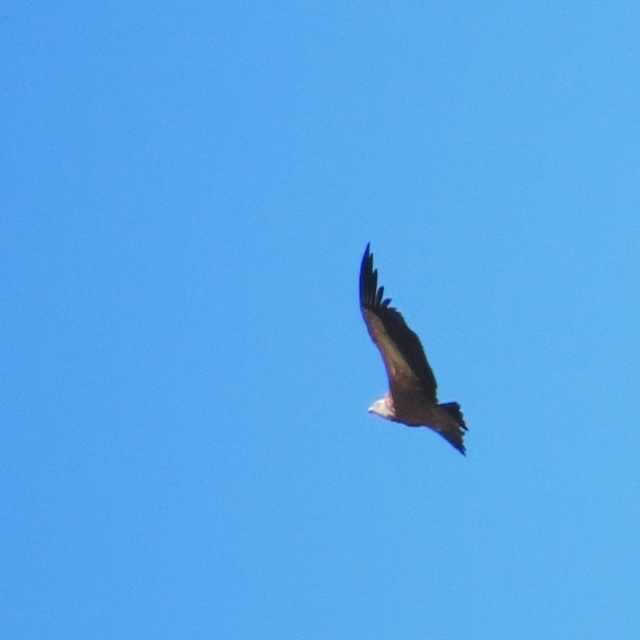Eagle: (356, 239, 469, 464)
